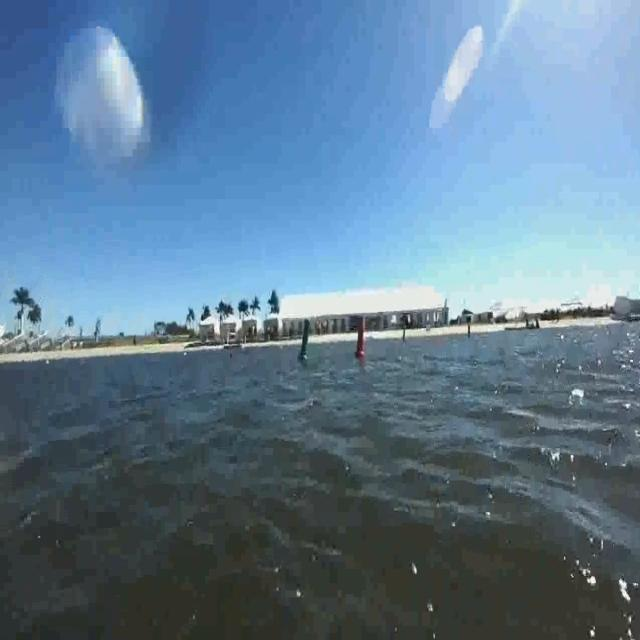green-column-buoy: (297, 317, 311, 361)
red-column-buoy: (354, 321, 367, 360)
